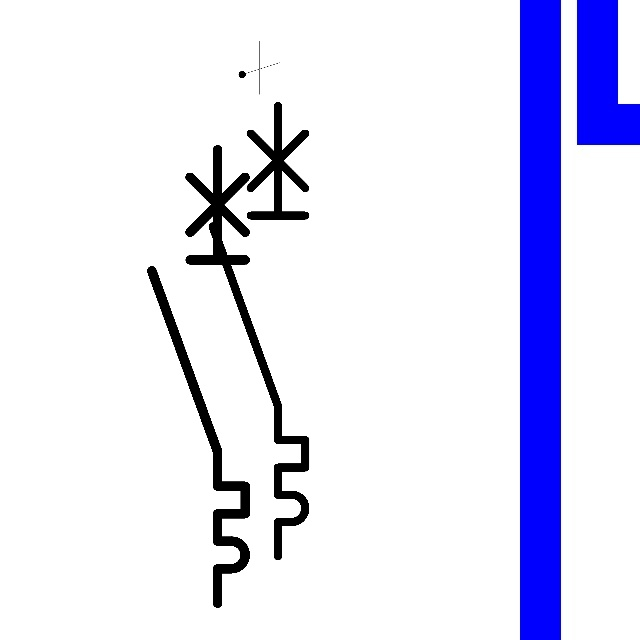interruptor_termomagnetico: (140, 138, 257, 615), (201, 94, 317, 567)
